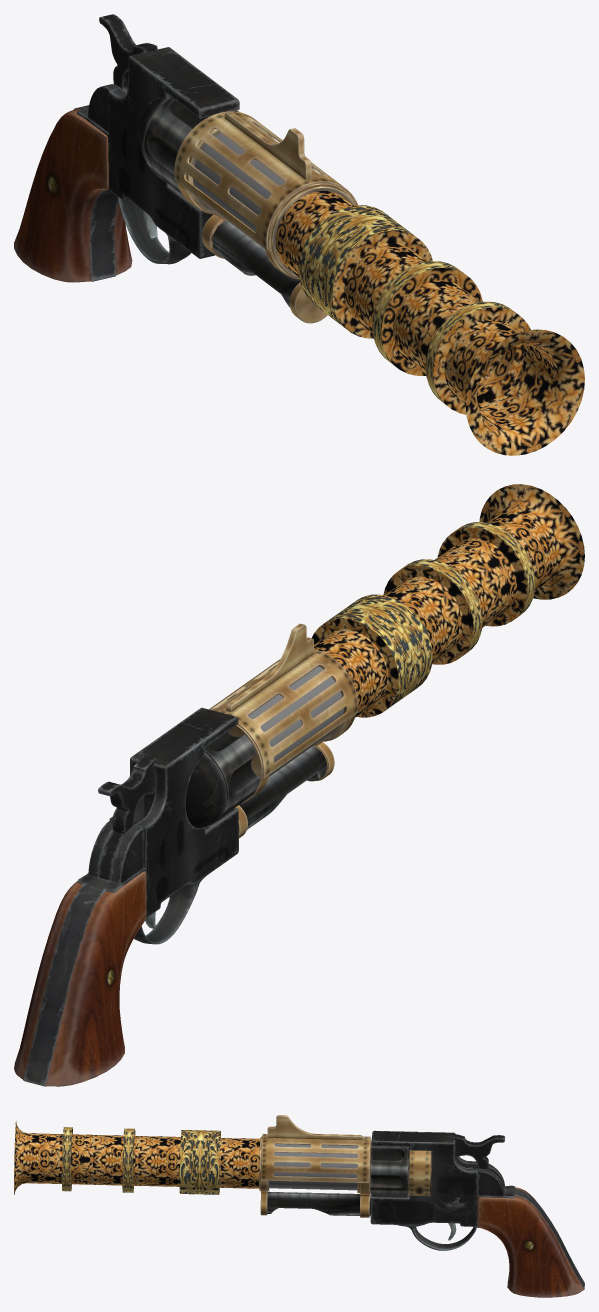
The model's file is Cannon Gun.fbx.
3 views of the same model, one above another, from view 1: azimuth 30°, elevation 25°; view 2: azimuth 150°, elevation 25°; view 3: azimuth 270°, elevation 25° (orthographic). The views are drawn at different scales.
Visible parts, largest first — view 1: Cannon; view 2: Cannon; view 3: Cannon.
Boxes of the visible parts, x1,y1,x2,y2 form: Cannon: (14, 14, 584, 455); Cannon: (14, 484, 584, 1086); Cannon: (14, 1115, 584, 1297).
Bounding box in the file's own units: 14.96 × 33.42 × 103.
1 material, 1 textured.
